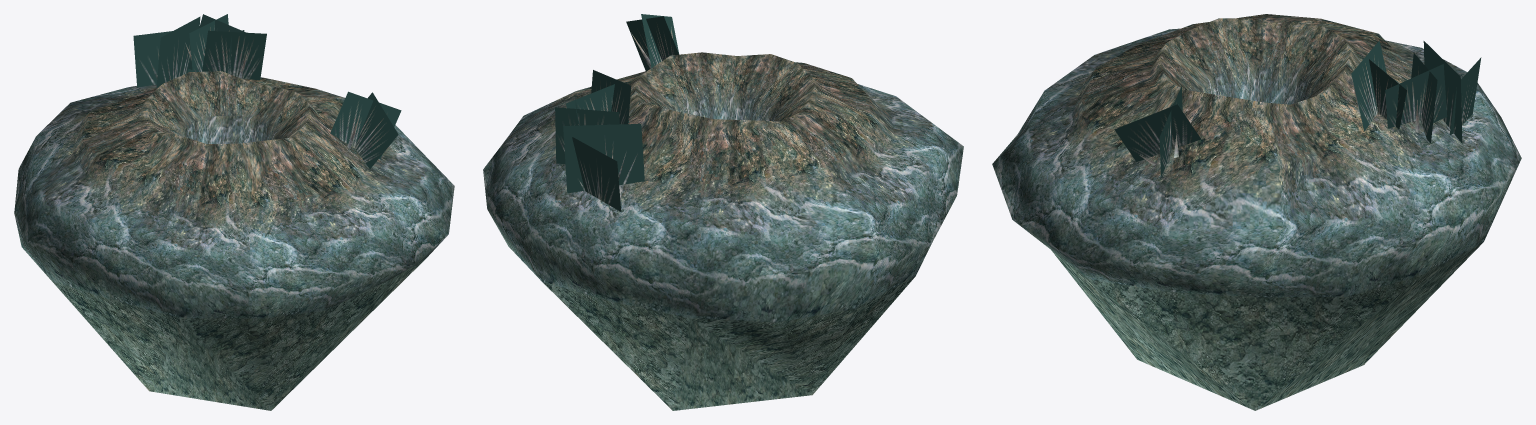
The model's file is rock_crystl_mound_med_l0.fbx.
3 views of the same model, side by side, from view 1: azimuth 30°, elevation 25°; view 2: azimuth 150°, elevation 25°; view 3: azimuth 270°, elevation 25° (orthographic). The views are drawn at different scales.
Visible parts, largest first — view 1: mesh_node; view 2: mesh_node; view 3: mesh_node.
Boxes of the visible parts, x1,y1,x2,y2 form: mesh_node: [14, 14, 454, 410]; mesh_node: [483, 14, 963, 410]; mesh_node: [992, 14, 1521, 410].
Bounding box in the file's own units: 16.67 × 12.15 × 17.03.
